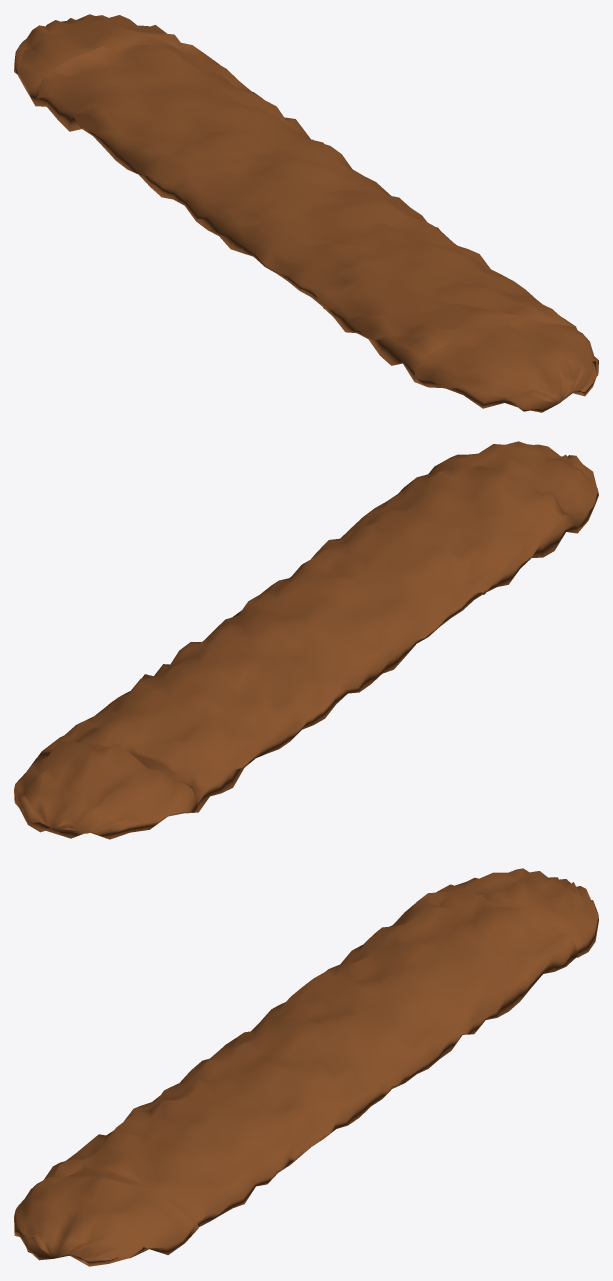
The model's file is newDirt.fbx.
3 views of the same model, one above another, from view 1: azimuth 30°, elevation 25°; view 2: azimuth 150°, elevation 25°; view 3: azimuth 330°, elevation 25° (orthographic).
Parts seen in each view (by area): view 1: Sphere.002; view 2: Sphere.002; view 3: Sphere.002.
Boxes of the visible parts, x1,y1,x2,y2 form: Sphere.002: (14, 14, 598, 412); Sphere.002: (14, 441, 598, 839); Sphere.002: (14, 868, 598, 1266).
Size of the model in its own units: 100 by 28.84 by 536.
